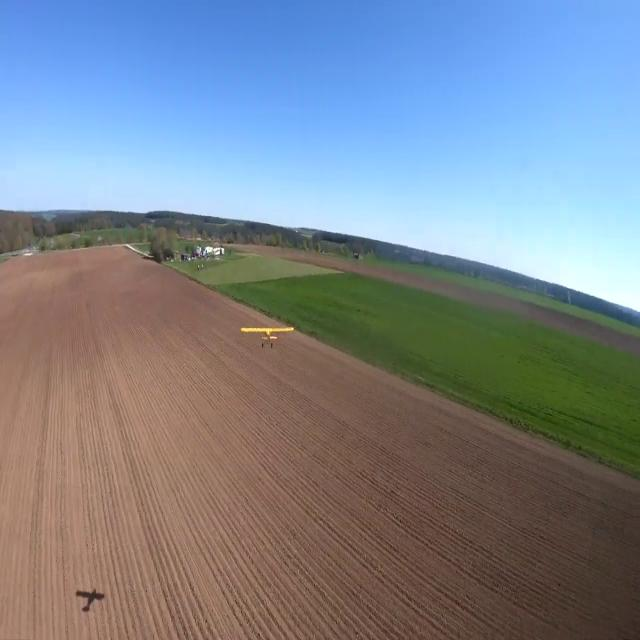iha: (234, 323, 288, 351)
